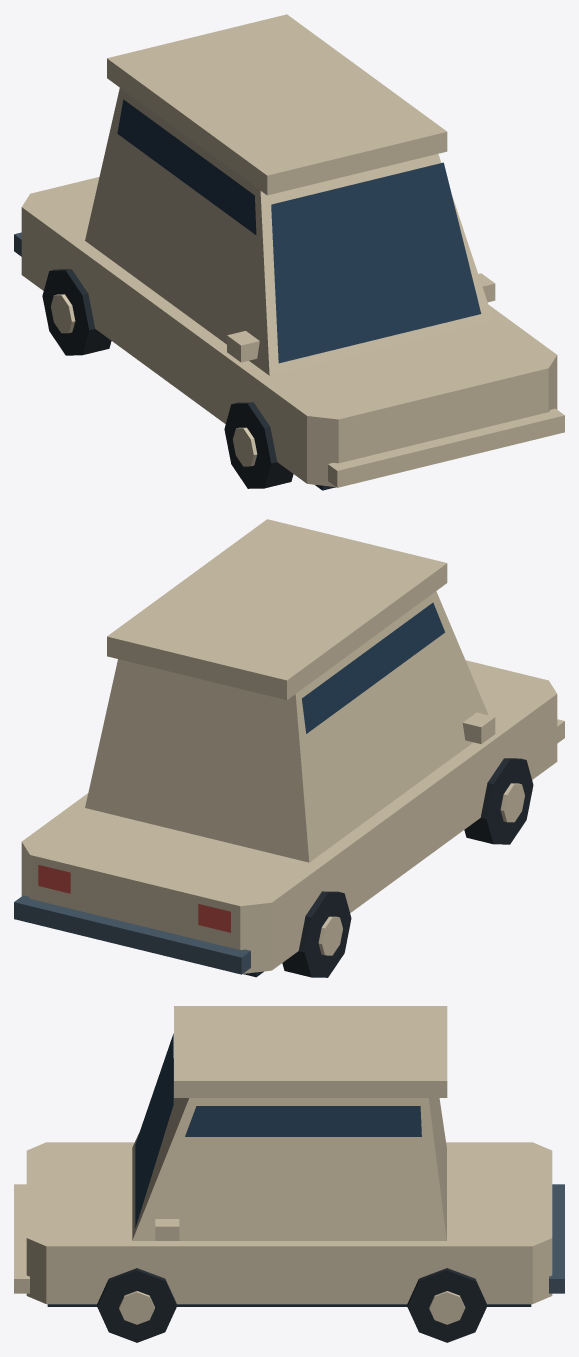
File: car-van.glb
3 views of the same model, one above another, from view 1: azimuth 30°, elevation 25°; view 2: azimuth 150°, elevation 25°; view 3: azimuth 270°, elevation 25° (orthographic). The views are drawn at different scales.
Parts seen in each view (by area): view 1: asset_root; view 2: asset_root; view 3: asset_root.
Part boxes in pixels (<box>): asset_root: <box>14,14,564,490</box>; asset_root: <box>14,519,564,977</box>; asset_root: <box>14,1006,564,1342</box>.
Bounding box in the file's own units: 2.01 × 2.03 × 4.14.
